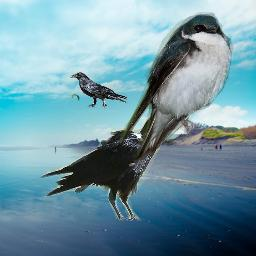Crow: (39, 112, 179, 221), (70, 72, 130, 109)
Swallow: (120, 9, 235, 161)
